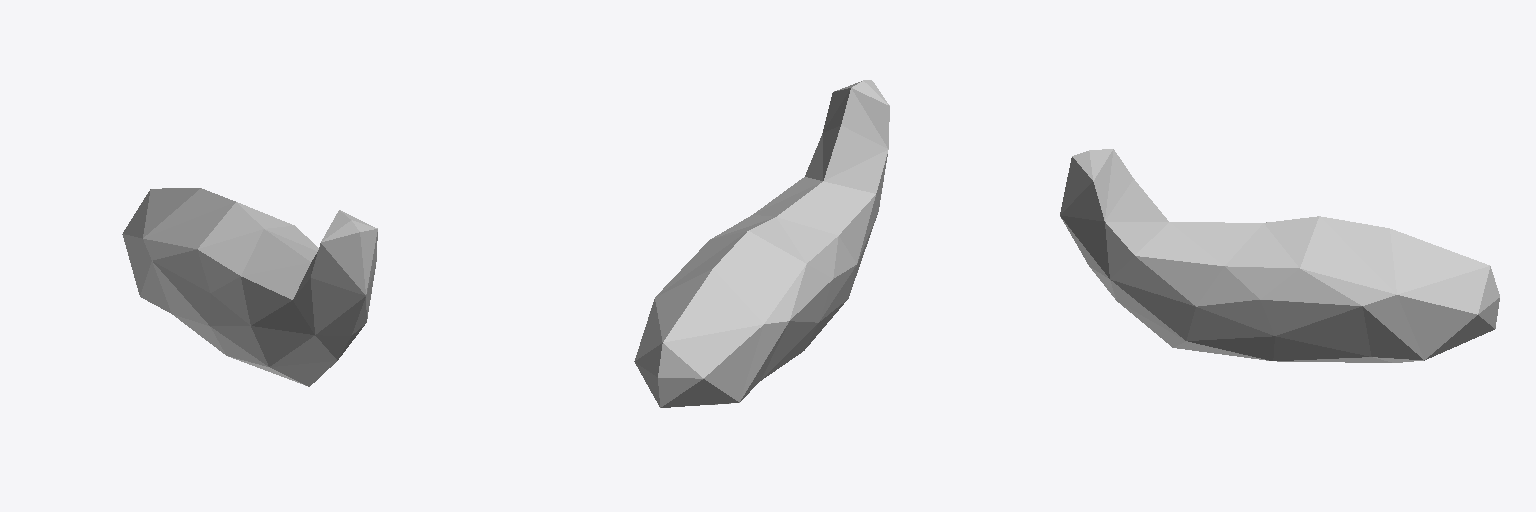
The model's file is Cuerpo.obj.
3 views of the same model, side by side, from view 1: azimuth 30°, elevation 25°; view 2: azimuth 150°, elevation 25°; view 3: azimuth 270°, elevation 25° (orthographic).
Parts seen in each view (by area): view 1: Cuerpo_body.001_Plane.003; view 2: Cuerpo_body.001_Plane.003; view 3: Cuerpo_body.001_Plane.003.
Boxes of the visible parts, x1,y1,x2,y2 form: Cuerpo_body.001_Plane.003: [122, 188, 377, 386]; Cuerpo_body.001_Plane.003: [634, 80, 889, 407]; Cuerpo_body.001_Plane.003: [1060, 149, 1499, 362].
Size of the model in its own units: 0.4461 by 0.7276 by 1.35.